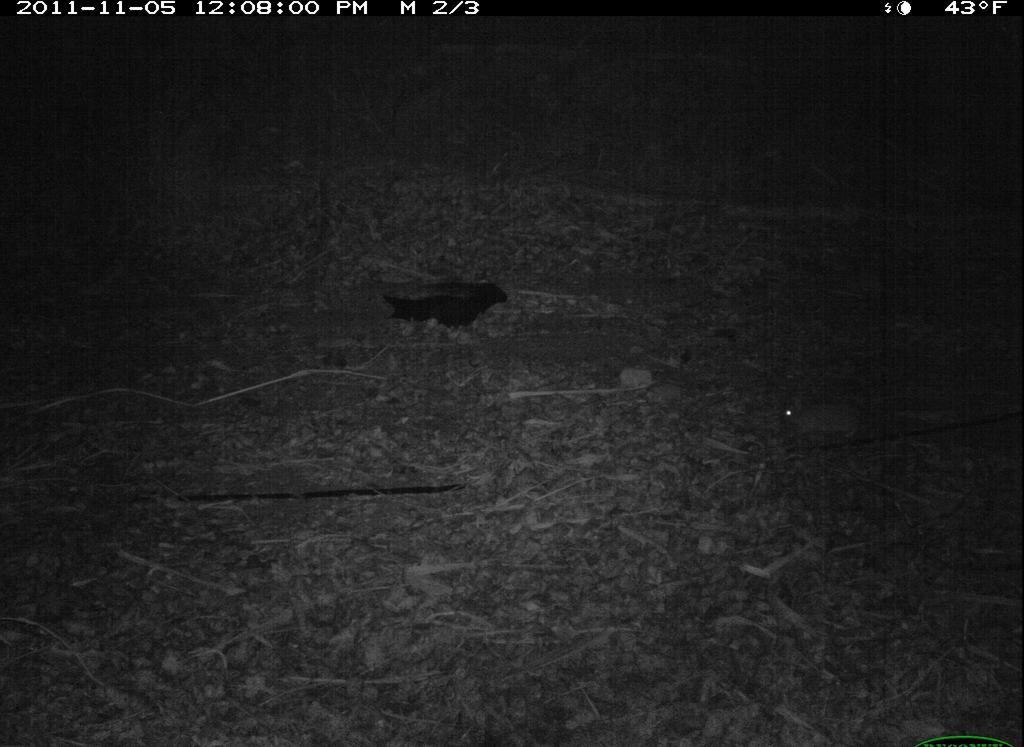rabbit: (772, 381, 879, 460)
